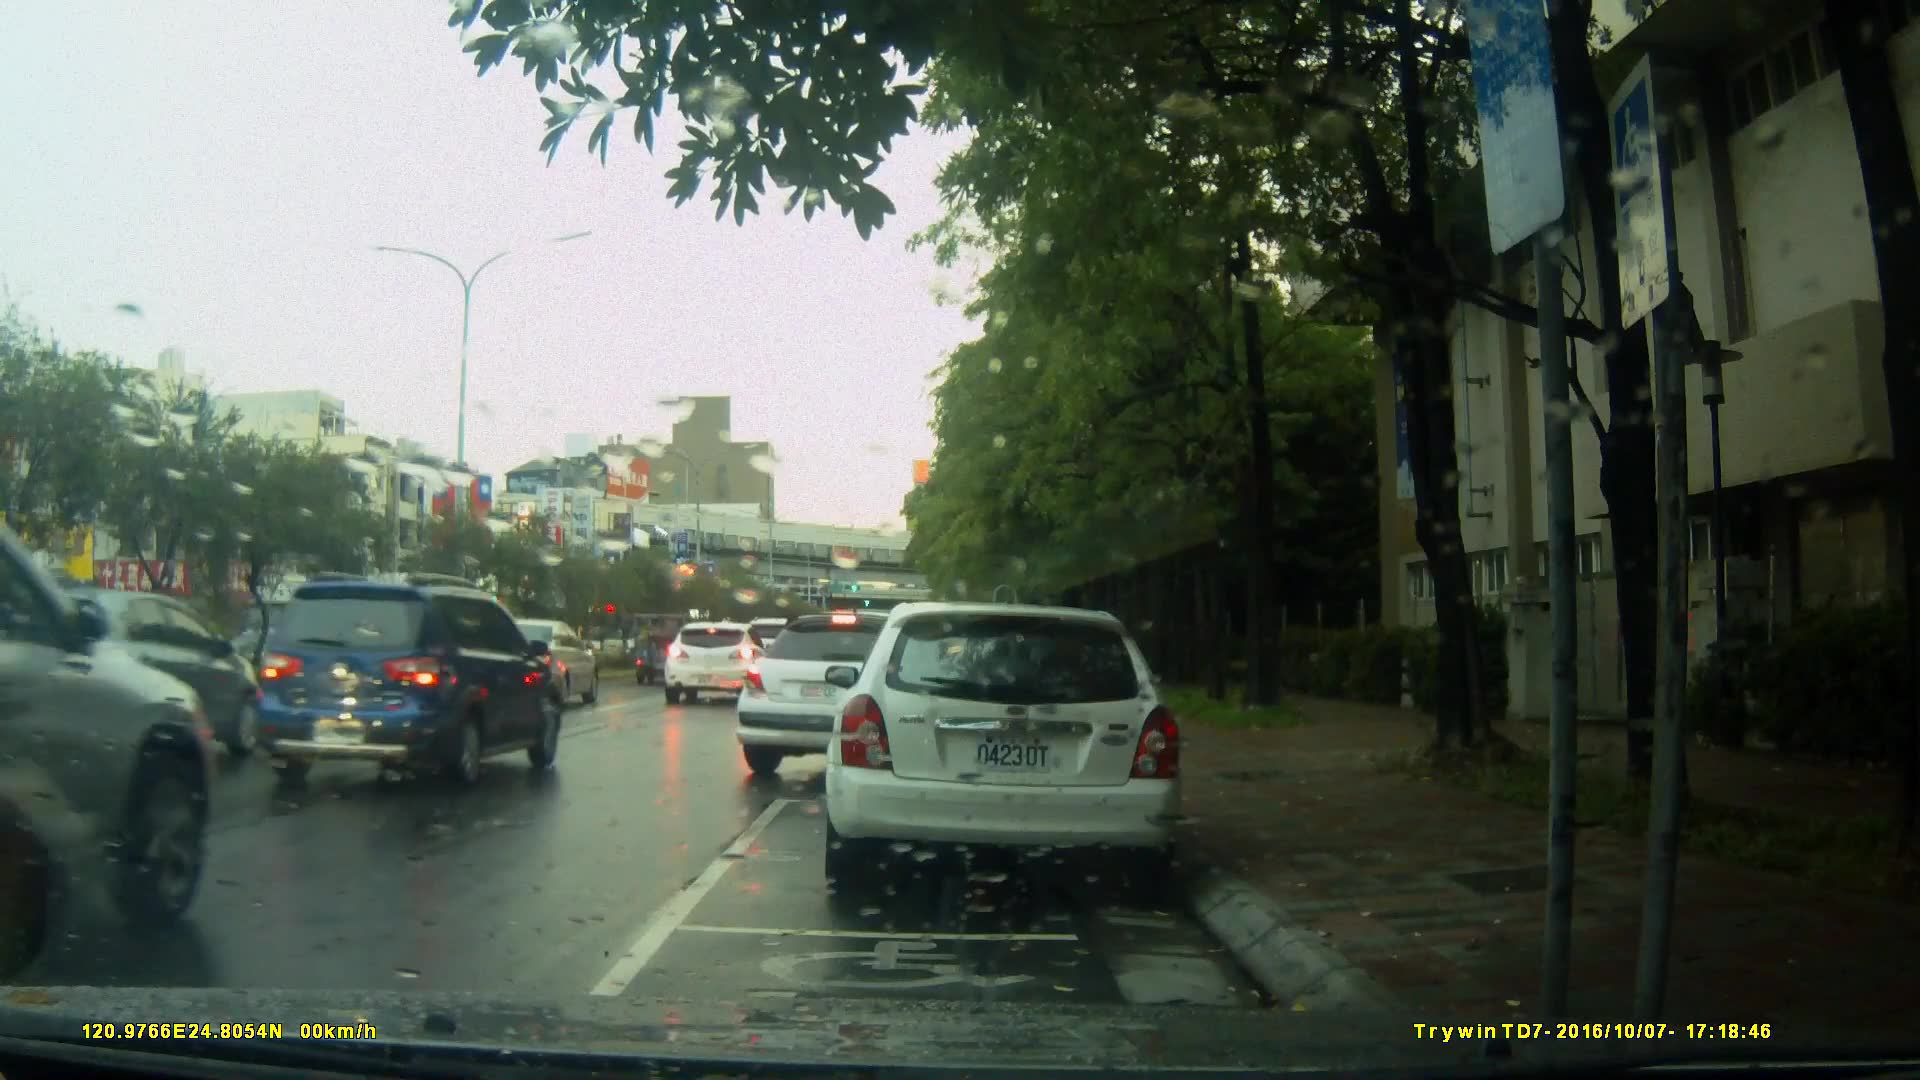vehicle: (1, 476, 225, 975), (820, 603, 1188, 898), (249, 570, 567, 790), (732, 611, 1017, 787), (22, 584, 287, 746), (456, 618, 605, 713), (662, 618, 767, 708)
